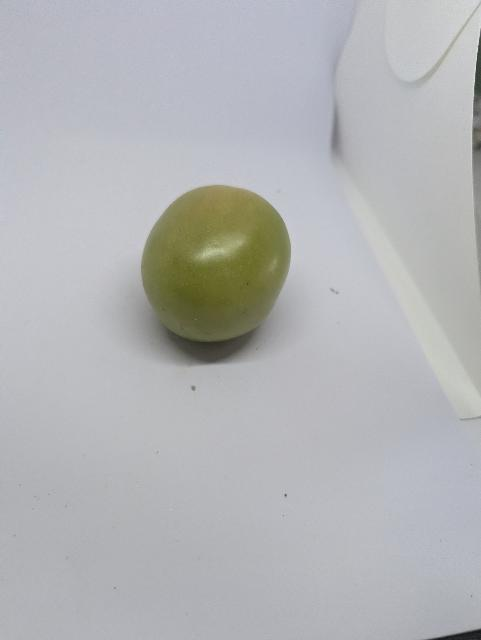green: (124, 164, 305, 365)
